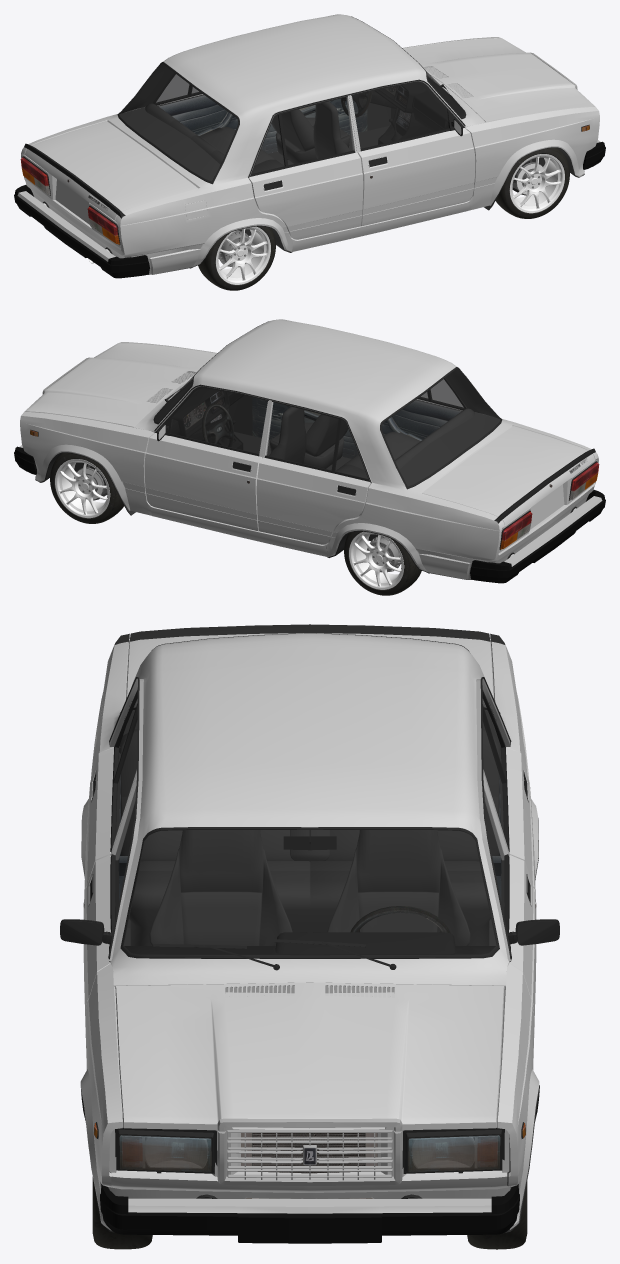
The model's file is car_lada.glb.
3 views of the same model, one above another, from view 1: azimuth 30°, elevation 25°; view 2: azimuth 150°, elevation 25°; view 3: azimuth 270°, elevation 25° (orthographic). The views are drawn at different scales.
Visible parts, largest first — view 1: Object_4, Object_17, Object_46, Object_10, Object_5, Object_60, Object_66, Object_15, Object_70, Object_25, Object_14, Object_12 (+3 smaller); view 2: Object_4, Object_17, Object_46, Object_10, Object_5, Object_66, Object_15, Object_60, Object_70, Object_25, Object_14, Object_12 (+3 smaller); view 3: Object_4, Object_17, Object_46, Object_5, Object_8, Object_15, Object_20, Object_60, Object_14, Object_21, Object_22, Object_34 (+3 smaller).
Part boxes in pixels (box(x1,y1,x2,y2)): Object_4: box(21, 14, 599, 274); Object_17: box(119, 64, 464, 180); Object_46: box(119, 64, 532, 258); Object_10: box(88, 154, 564, 284); Object_5: box(24, 16, 466, 253); Object_60: box(370, 77, 464, 144); Object_66: box(159, 95, 366, 153); Object_15: box(14, 141, 605, 278); Object_70: box(198, 148, 569, 290); Object_25: box(20, 157, 119, 244); Object_14: box(17, 140, 600, 261); Object_12: box(160, 147, 584, 273); Object_4: box(20, 319, 598, 579); Object_17: box(155, 369, 499, 485); Object_46: box(75, 369, 500, 563); Object_10: box(55, 459, 562, 589); Object_5: box(153, 321, 595, 559); Object_66: box(252, 397, 460, 458); Object_15: box(14, 446, 605, 583); Object_60: box(155, 381, 243, 449); Object_70: box(50, 453, 421, 595); Object_25: box(500, 462, 599, 549); Object_14: box(19, 445, 602, 566); Object_12: box(35, 452, 470, 579); Object_4: box(80, 633, 539, 1230); Object_17: box(115, 647, 504, 1173); Object_46: box(115, 701, 504, 1135); Object_5: box(60, 624, 559, 1198); Object_8: box(108, 678, 511, 1185); Object_15: box(100, 1184, 519, 1243); Object_20: box(119, 1135, 500, 1172); Object_60: box(124, 830, 499, 956); Object_14: box(128, 1198, 491, 1213); Object_21: box(143, 1137, 476, 1168); Object_22: box(96, 1122, 523, 1173); Object_34: box(241, 1133, 377, 1198).
Size of the model in its own units: 4.13 by 1.35 by 1.78.
Materials: 30 (11 with a texture image).
